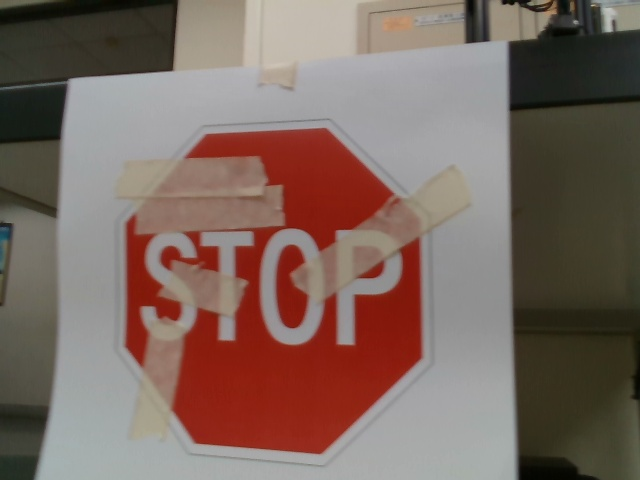stop: (114, 118, 438, 466)
